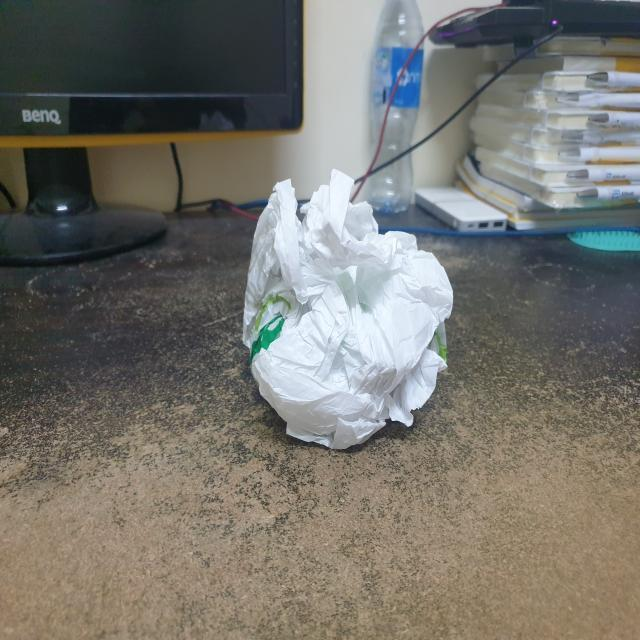Plastic_Bag: (227, 160, 463, 460)
